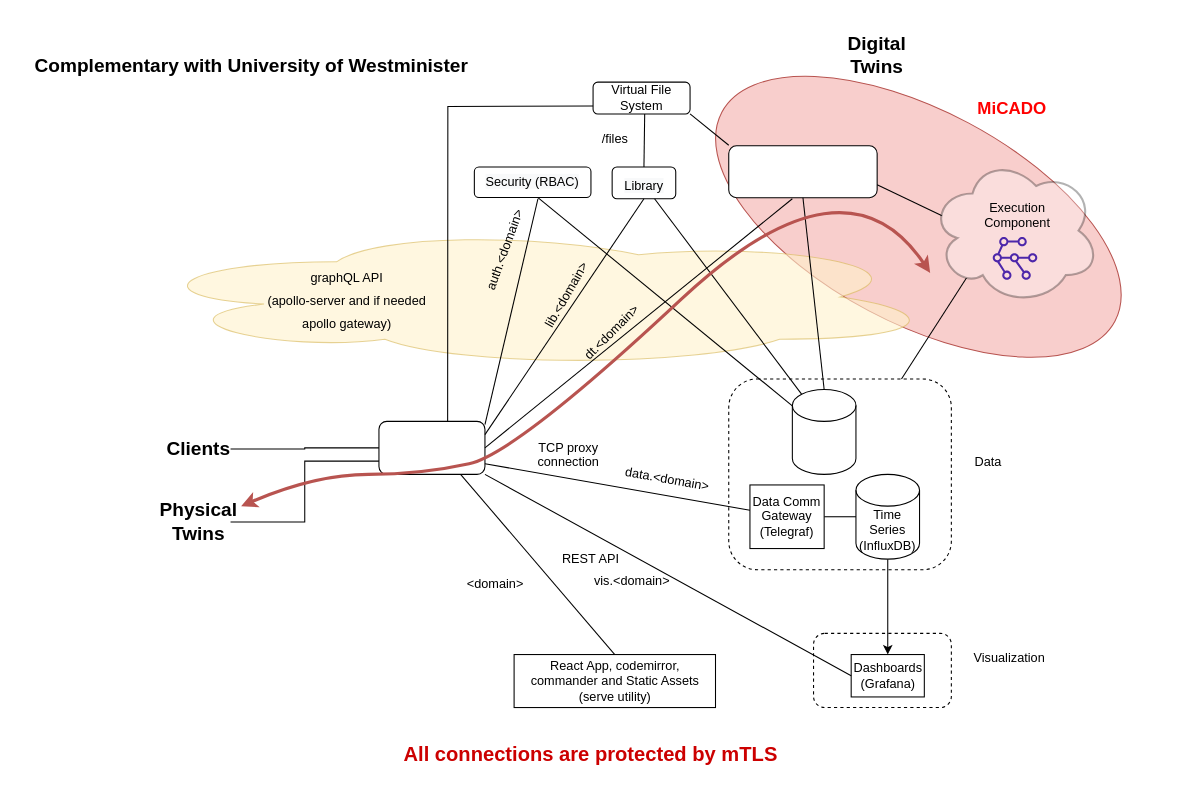
This 1184x790 diagram has some shape labels left out. Here are the shapes that lost their labels. From the top down, the centre of each, then its label:
At pixel 802 171: "Execution Orchestrator (Terraform, Nomad, Ansible)".
At pixel 431 447: "Gateway (Traefik)".
At pixel 823 431: "Graph (Dgraph)".
